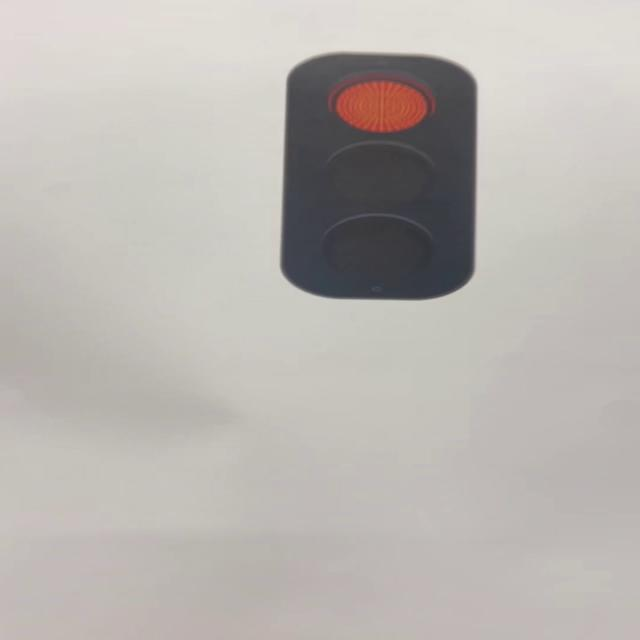red: (274, 53, 478, 301)
